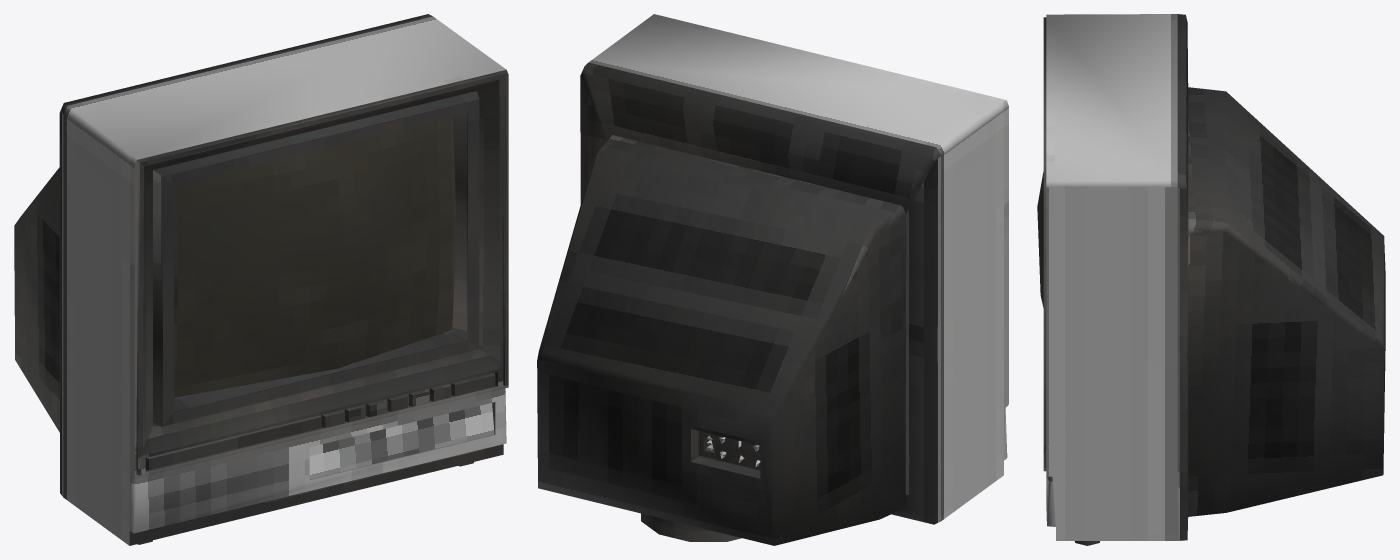
The model's file is tv_head.glb.
The picture shows the model from 3 angles, left to right: view 1: azimuth 30°, elevation 25°; view 2: azimuth 150°, elevation 25°; view 3: azimuth 270°, elevation 25°; orthographic projection. The views are drawn at different scales.
Parts seen in each view (by area): view 1: television_02; view 2: television_02; view 3: television_02.
Boxes of the visible parts, x1,y1,x2,y2 form: television_02: [14, 14, 508, 545]; television_02: [537, 14, 1008, 545]; television_02: [1037, 14, 1385, 545].
Bounding box in the file's own units: 0.3997 × 0.4108 × 0.3494.
Materials: 1 (1 with a texture image).
